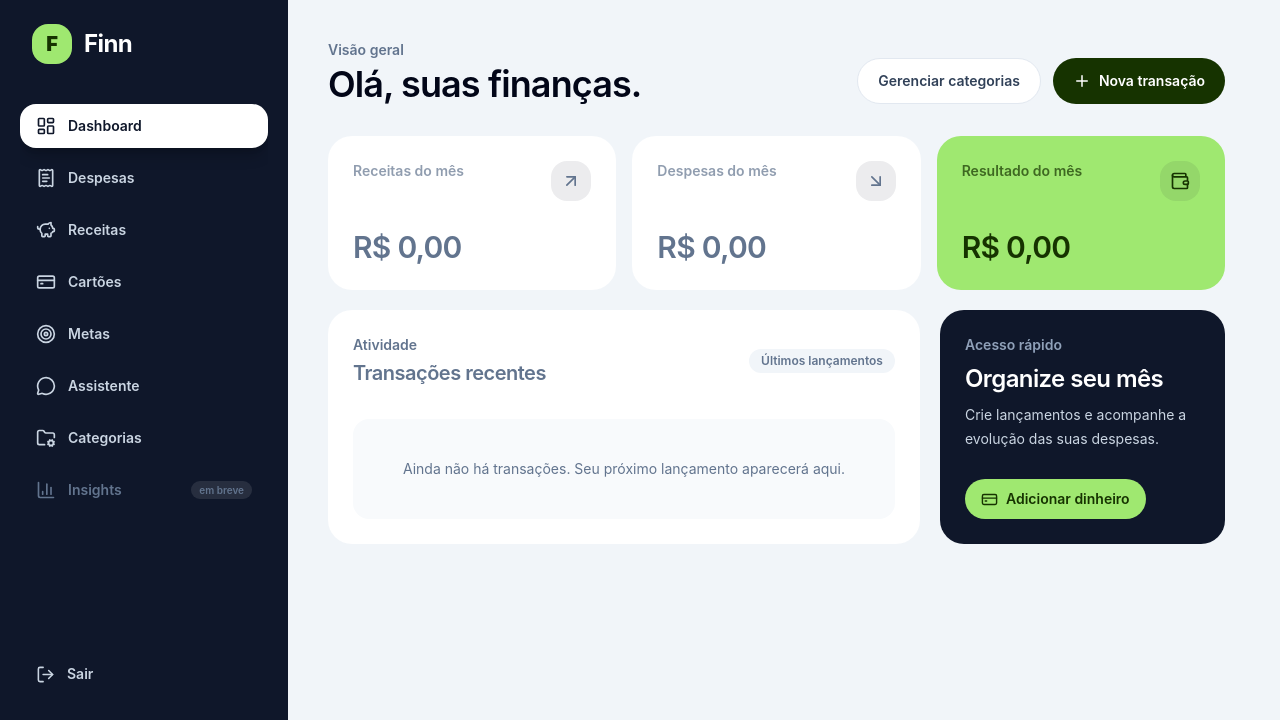
Test case: saída da conta › permite tentar de novo e só então volta ao login
Click the button "Sair": (144,674) [20,652,268,696]
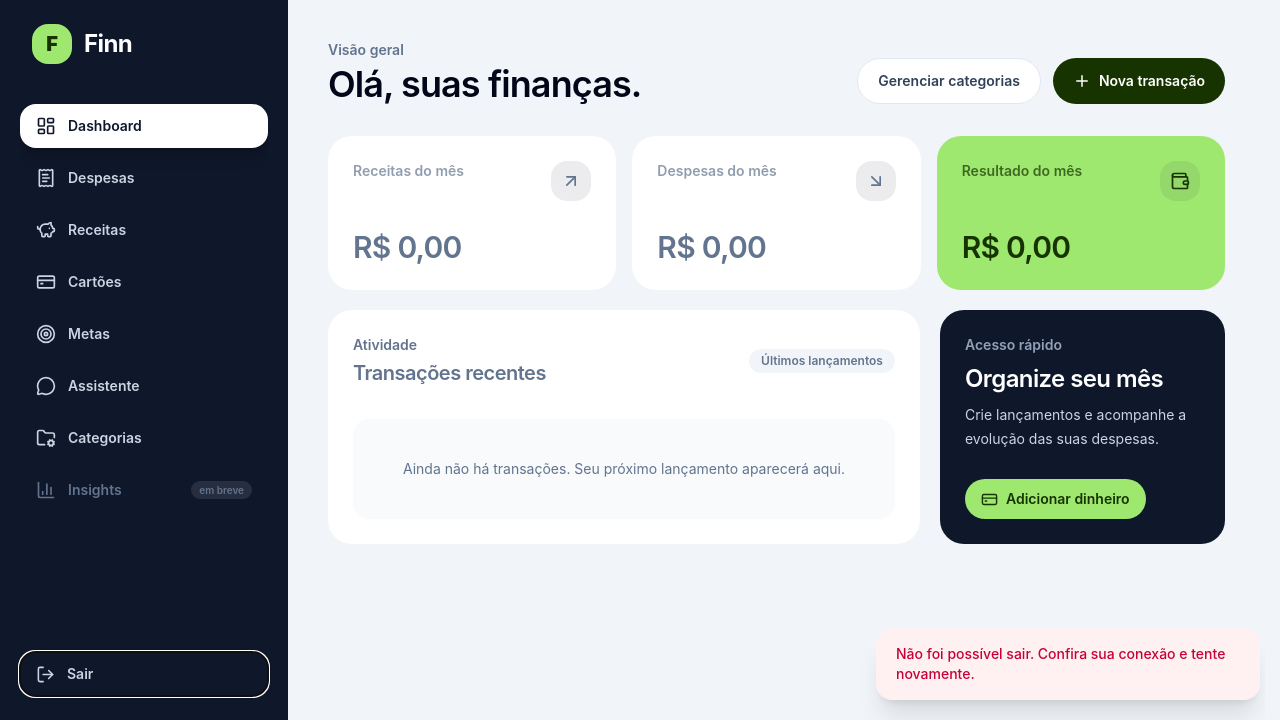
expect the message "Não foi possível sair. Confira sua conexão e tente novamente." is shown: met, box [876,628,1260,700]
Click the button "Sair": (144,674) [20,652,268,696]
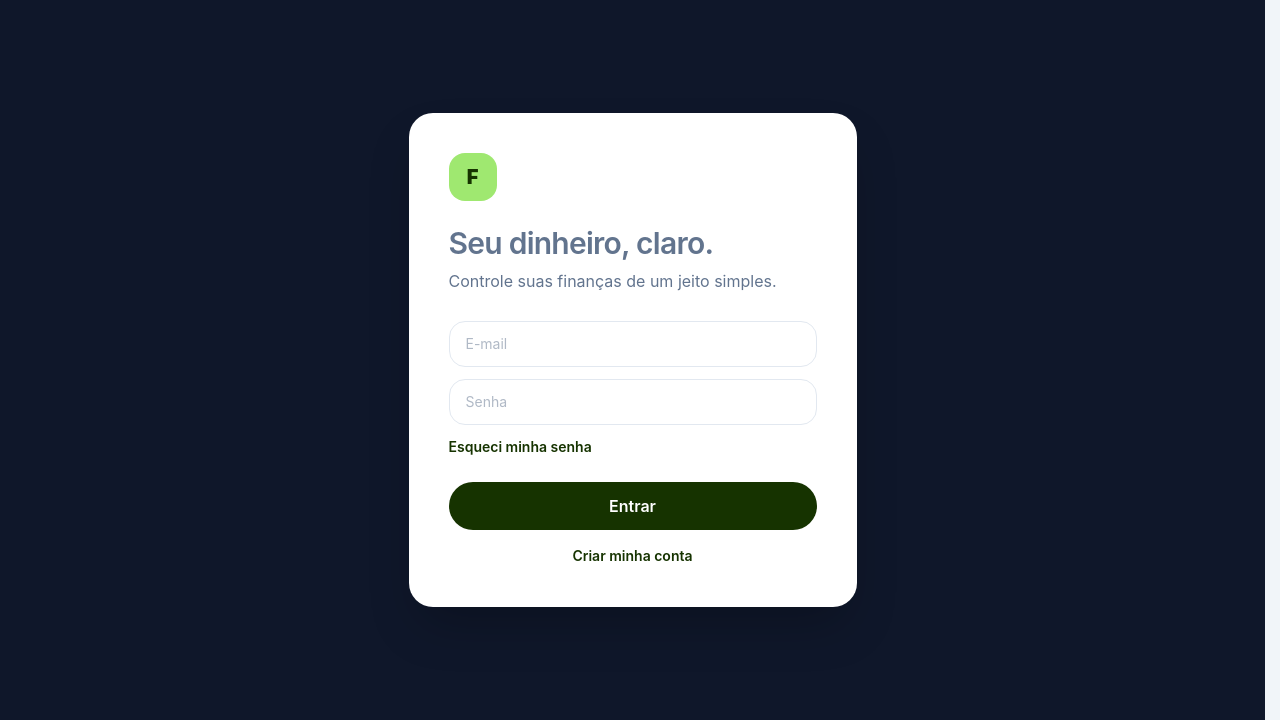
expect the button "Entrar" is shown: met, box [448,482,816,530]
